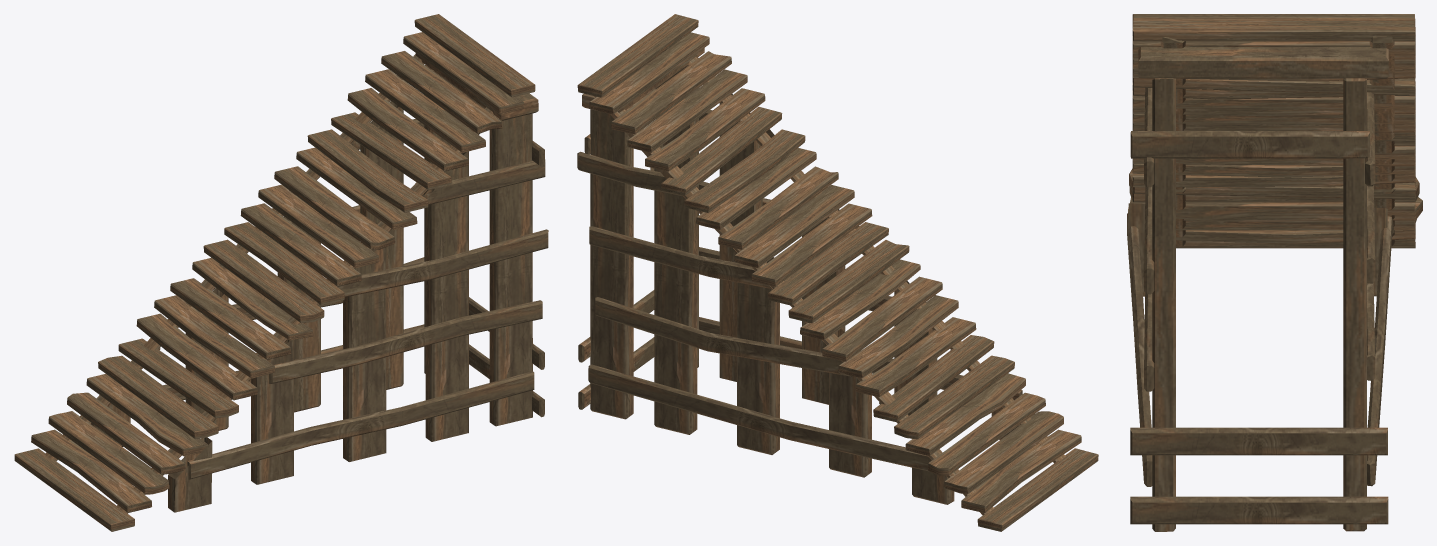
The model's file is SM_stairs_03.fbx.
3 renders of one model, left to right at view 1: azimuth 30°, elevation 25°; view 2: azimuth 150°, elevation 25°; view 3: azimuth 270°, elevation 25°, orthographic. The views are drawn at different scales.
Visible parts, largest first — view 1: SM_stairs_03_LOD0; view 2: SM_stairs_03_LOD0; view 3: SM_stairs_03_LOD0.
Part boxes in pixels (left/top/right/bottom): SM_stairs_03_LOD0: left=14, top=14, right=548, bottom=531; SM_stairs_03_LOD0: left=577, top=14, right=1098, bottom=531; SM_stairs_03_LOD0: left=1127, top=14, right=1422, bottom=531.
Size of the model in its own units: 528 by 209 by 392.
Materials: 1 (1 with a texture image).
